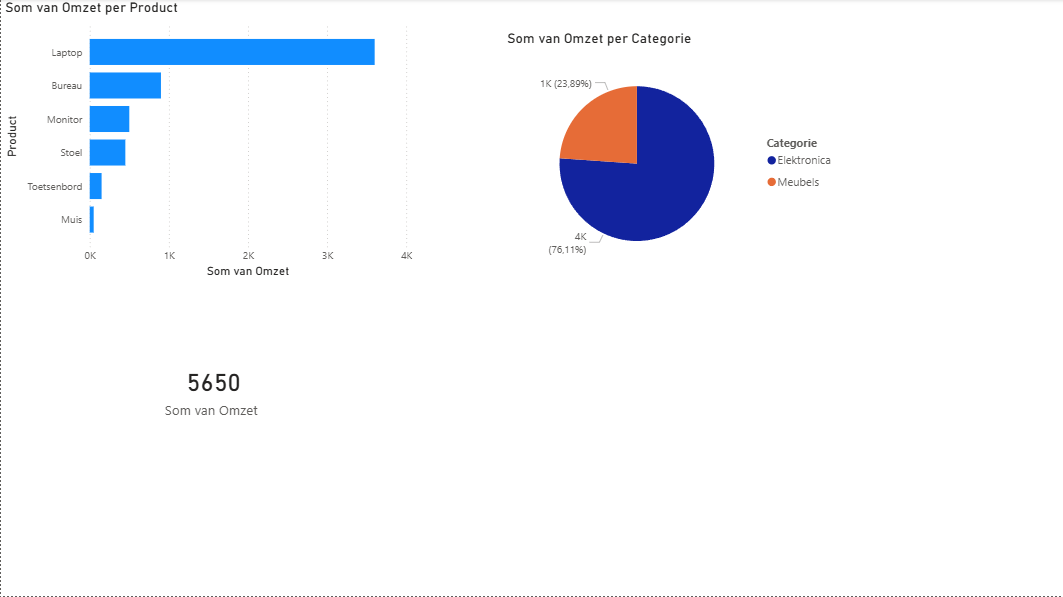

The page's visual inventory and layout, read from the dashboard file:
{"tool":"powerbi","page":{"name":"Pagina 1","canvas":[1280,720],"ordinal":0},"visuals":[{"type":"barChart","fields":{"Category":["Blad1.Product"],"Y":["Sum(Blad1.Omzet )"]},"box":[0,0,500.8,340.8],"z":0},{"type":"card","fields":{"Values":["Sum(Blad1.Omzet )"]},"box":[0,340.8,511.7,259.2],"z":1},{"type":"pieChart","fields":{"Category":["Blad1.Categorie"],"Y":["Sum(Blad1.Omzet )"]},"box":[605.8,37.5,410,303.3],"z":2}]}

Visuals, with their boxes in screenshot pixels (x1, y1, x2, y2), scaled from the page's 1280x720 canvas onto the 1063x597 screenshot:
barChart - Blad1.Product x Sum(Blad1.Omzet ): left=0, top=0, right=416, bottom=283
card - Sum(Blad1.Omzet ): left=0, top=283, right=425, bottom=498
pieChart - Blad1.Categorie x Sum(Blad1.Omzet ): left=503, top=31, right=844, bottom=283
